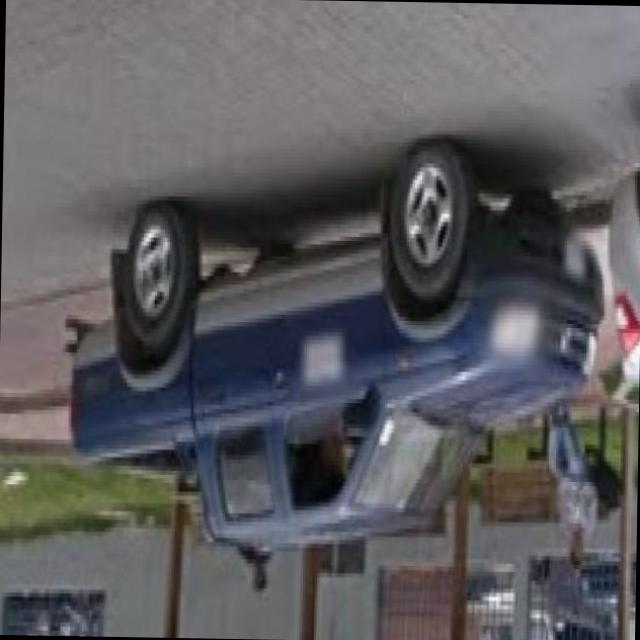car: (65, 157, 606, 537)
